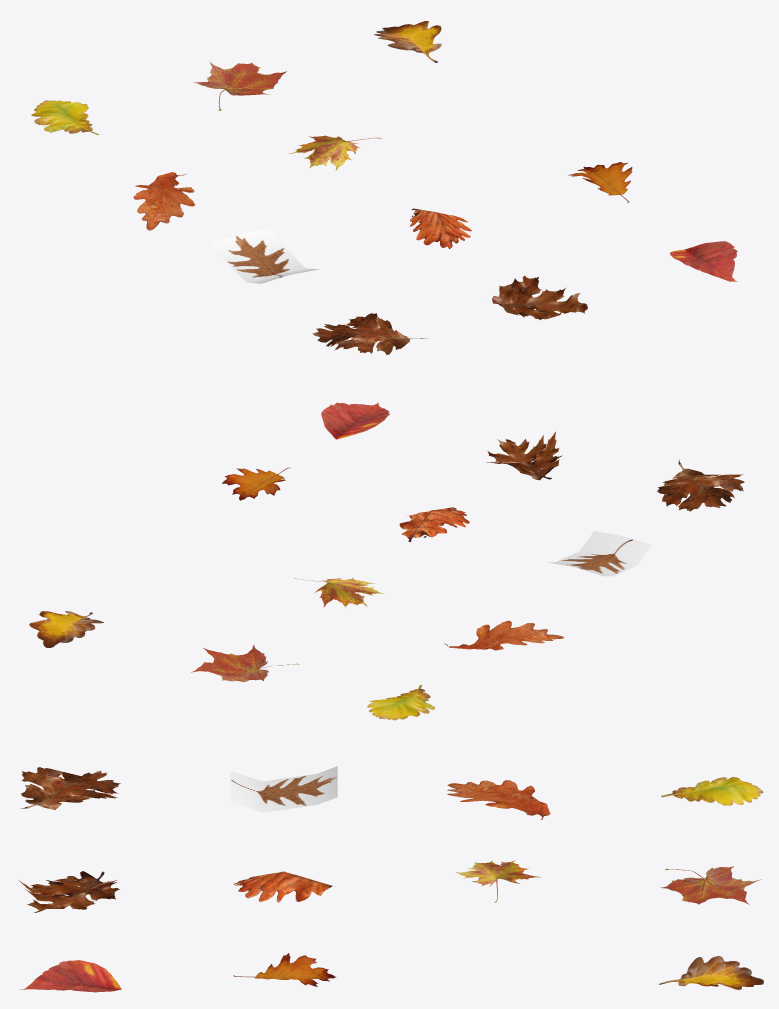
Rendered from leaves.fbx.
3 views of the same model, one above another, from view 1: azimuth 30°, elevation 25°; view 2: azimuth 150°, elevation 25°; view 3: azimuth 270°, elevation 25° (orthographic). The views are drawn at different scales.
Visible parts, largest first — view 1: leaf_7, leaf_11, leaf_10, leaf_4, leaf_2, leaf_12, leaf_1, leaf_8, leaf_3, leaf_5, leaf_9; view 2: leaf_7, leaf_10, leaf_11, leaf_12, leaf_2, leaf_4, leaf_3, leaf_8, leaf_1, leaf_9, leaf_5; view 3: leaf_7, leaf_10, leaf_11, leaf_12, leaf_4, leaf_2, leaf_3, leaf_8, leaf_1, leaf_9, leaf_5.
Boxes of the visible parts, <box> form: leaf_7: <box>212,228,319,283</box>; leaf_11: <box>492,275,587,320</box>; leaf_10: <box>312,313,428,354</box>; leaf_4: <box>133,172,194,230</box>; leaf_2: <box>193,62,286,110</box>; leaf_12: <box>669,241,737,281</box>; leaf_1: <box>31,100,99,134</box>; leaf_8: <box>410,208,471,248</box>; leaf_3: <box>374,21,441,62</box>; leaf_5: <box>289,135,381,170</box>; leaf_9: <box>568,162,632,202</box>; leaf_7: <box>547,531,651,576</box>; leaf_10: <box>657,459,744,511</box>; leaf_11: <box>486,432,562,480</box>; leaf_12: <box>321,402,389,439</box>; leaf_2: <box>191,644,299,682</box>; leaf_4: <box>444,620,563,650</box>; leaf_3: <box>29,611,103,647</box>; leaf_8: <box>399,507,469,541</box>; leaf_1: <box>367,685,434,720</box>; leaf_9: <box>222,467,290,500</box>; leaf_5: <box>294,578,383,607</box>; leaf_7: <box>230,766,337,812</box>; leaf_10: <box>20,767,120,809</box>; leaf_11: <box>18,871,119,912</box>; leaf_12: <box>20,960,121,992</box>; leaf_4: <box>447,780,550,819</box>; leaf_2: <box>660,866,761,904</box>; leaf_3: <box>659,956,763,989</box>; leaf_8: <box>233,871,332,902</box>; leaf_1: <box>661,777,763,805</box>; leaf_9: <box>233,953,336,986</box>; leaf_5: <box>456,860,541,902</box>.
Bounding box in the file's own units: 48.85 × 2.97 × 70.03.
